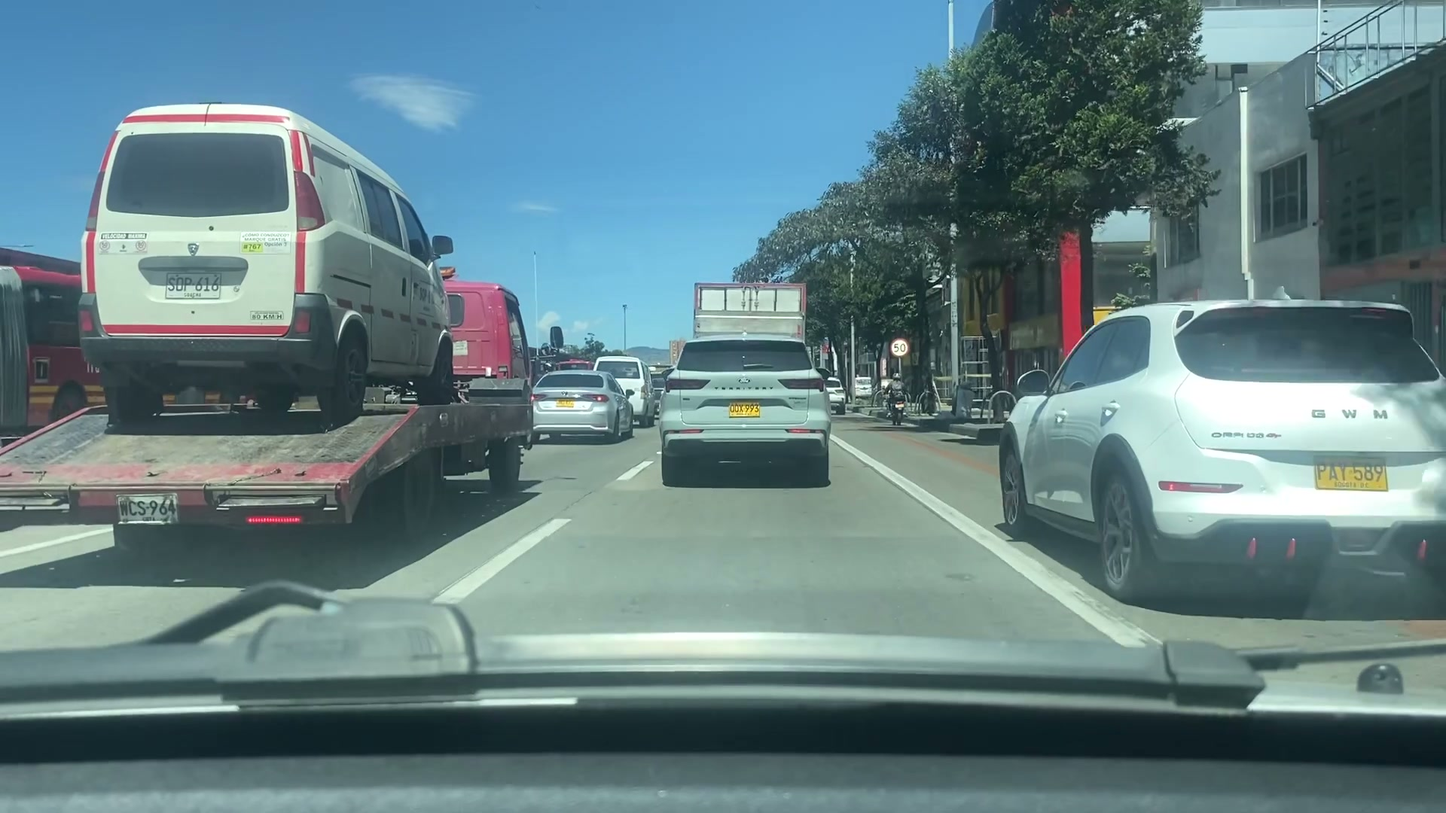bus: (84, 100, 460, 408), (596, 356, 657, 422)
car: (991, 288, 1446, 602), (657, 337, 837, 487), (523, 370, 643, 439)
truck: (0, 276, 545, 558), (689, 280, 806, 343)
